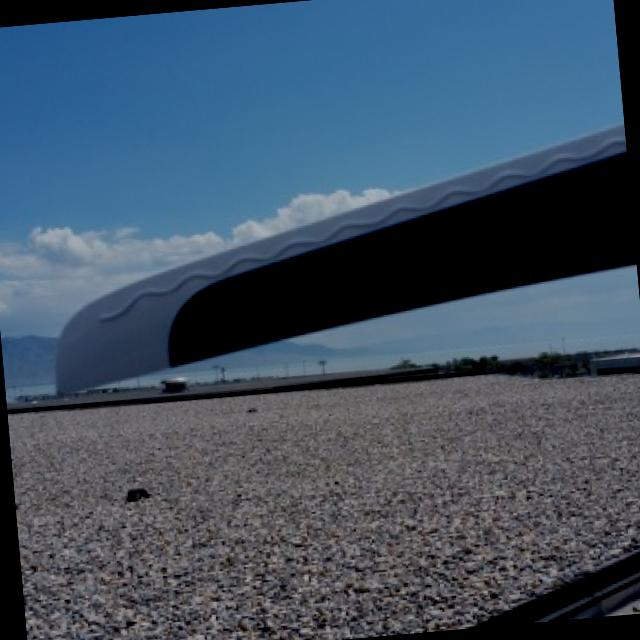healthy: (58, 124, 636, 392)
